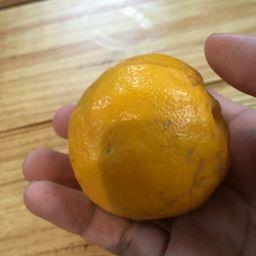Ripe: (68, 57, 228, 219)
